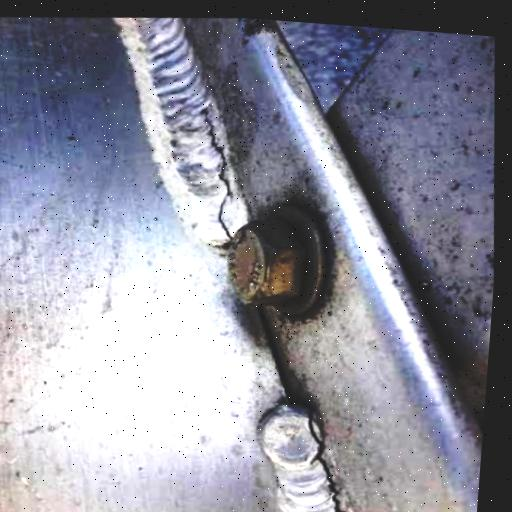crack: (179, 88, 253, 248), (295, 391, 371, 512)
